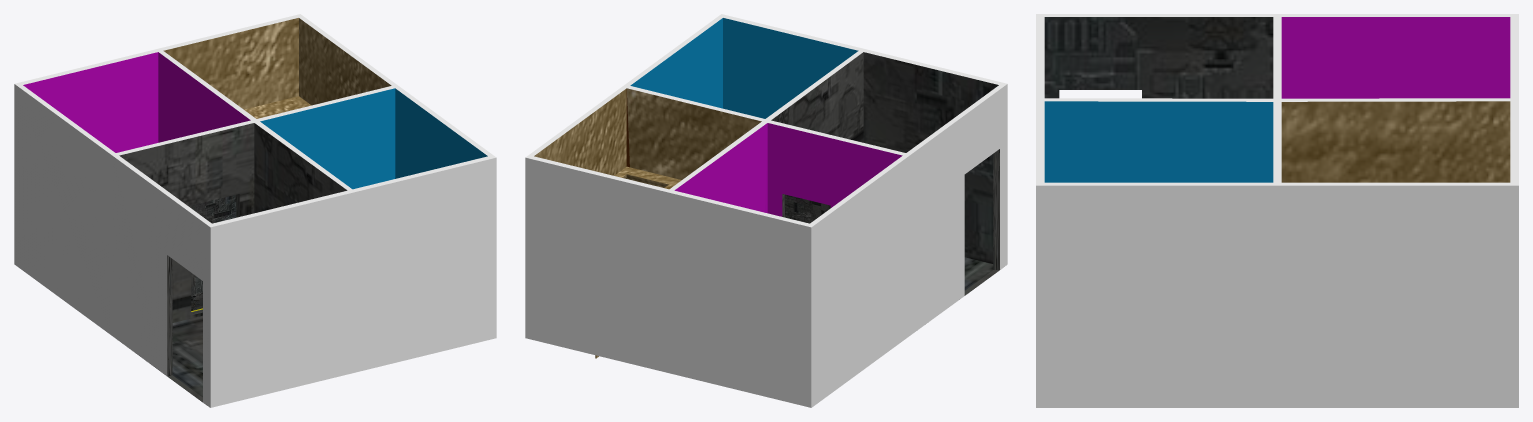
Rendered from escaperoom (1) 2.fbx.
3 renders of one model, left to right at view 1: azimuth 30°, elevation 25°; view 2: azimuth 150°, elevation 25°; view 3: azimuth 270°, elevation 25°, orthographic. The views are drawn at different scales.
Visible parts, largest first — view 1: Cube.004, Cube.003; view 2: Cube.004, Cube.003; view 3: Cube.004.
Boxes of the visible parts, x1=… form: Cube.004: x1=14, y1=14, x2=496, y2=407; Cube.003: x1=191, y1=195, x2=236, y2=310; Cube.004: x1=525, y1=14, x2=1007, y2=407; Cube.003: x1=785, y1=194, x2=830, y2=223; Cube.004: x1=1036, y1=14, x2=1518, y2=407.
Size of the model in its own units: 995 by 617 by 1182.
